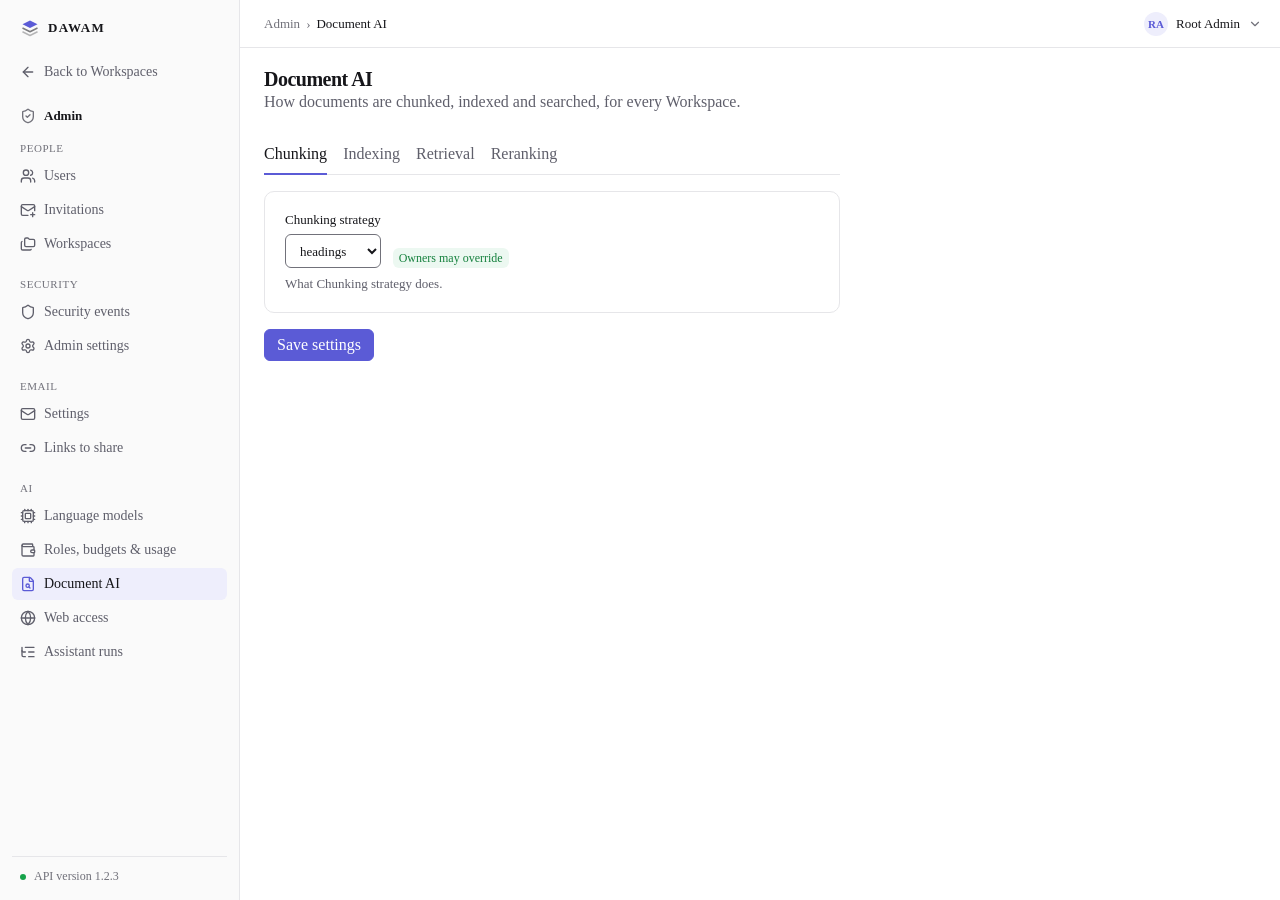
the Document AI settings page › queues a re-index of every Workspace when the admin accepts
This screenshot has width=1280, height=900.
Select "recursive" in the dropdown labelled "Chunking strategy" at (333, 251), box [285,234,381,268]
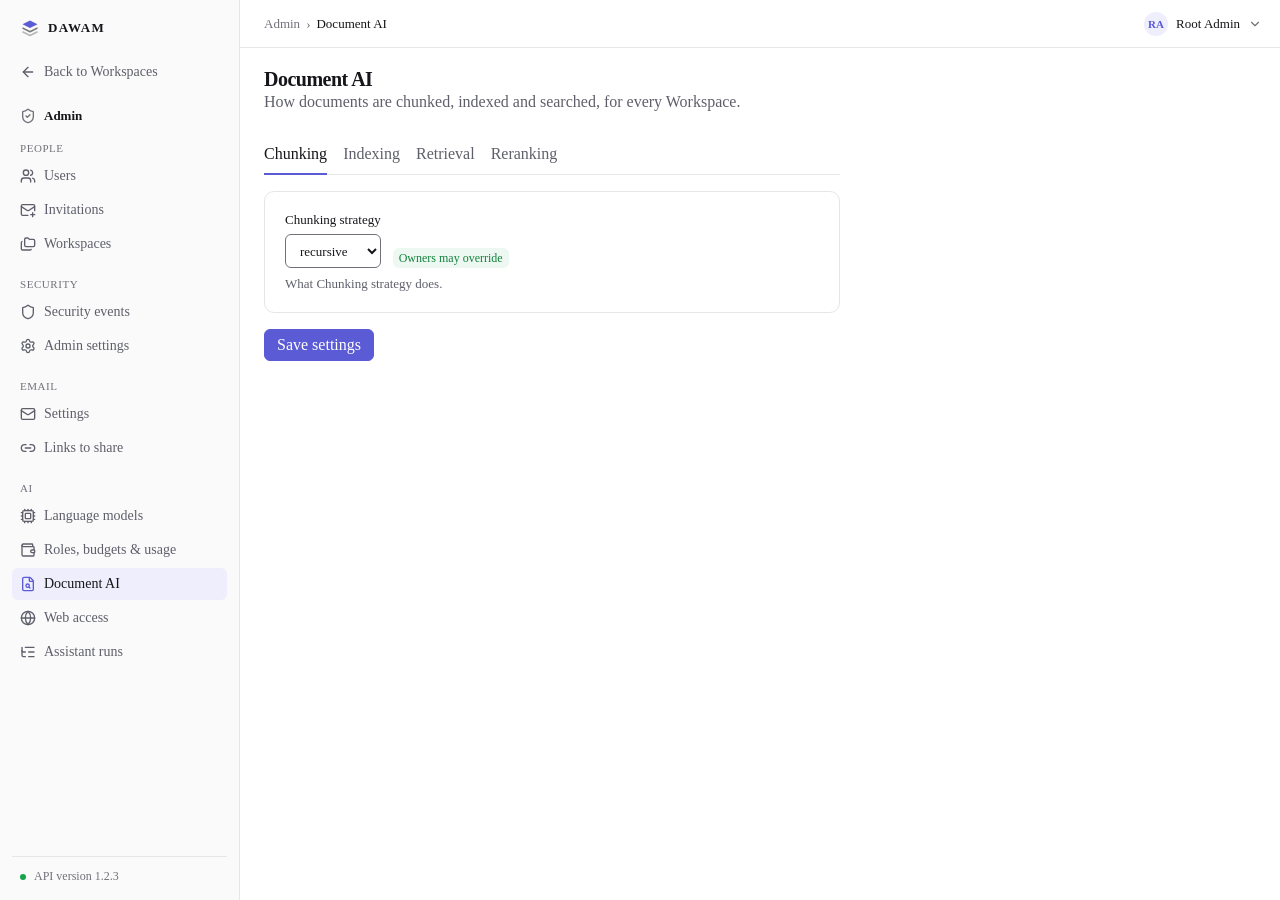
Click the button "Save settings".
click(319, 345)  # box [264,329,374,361]
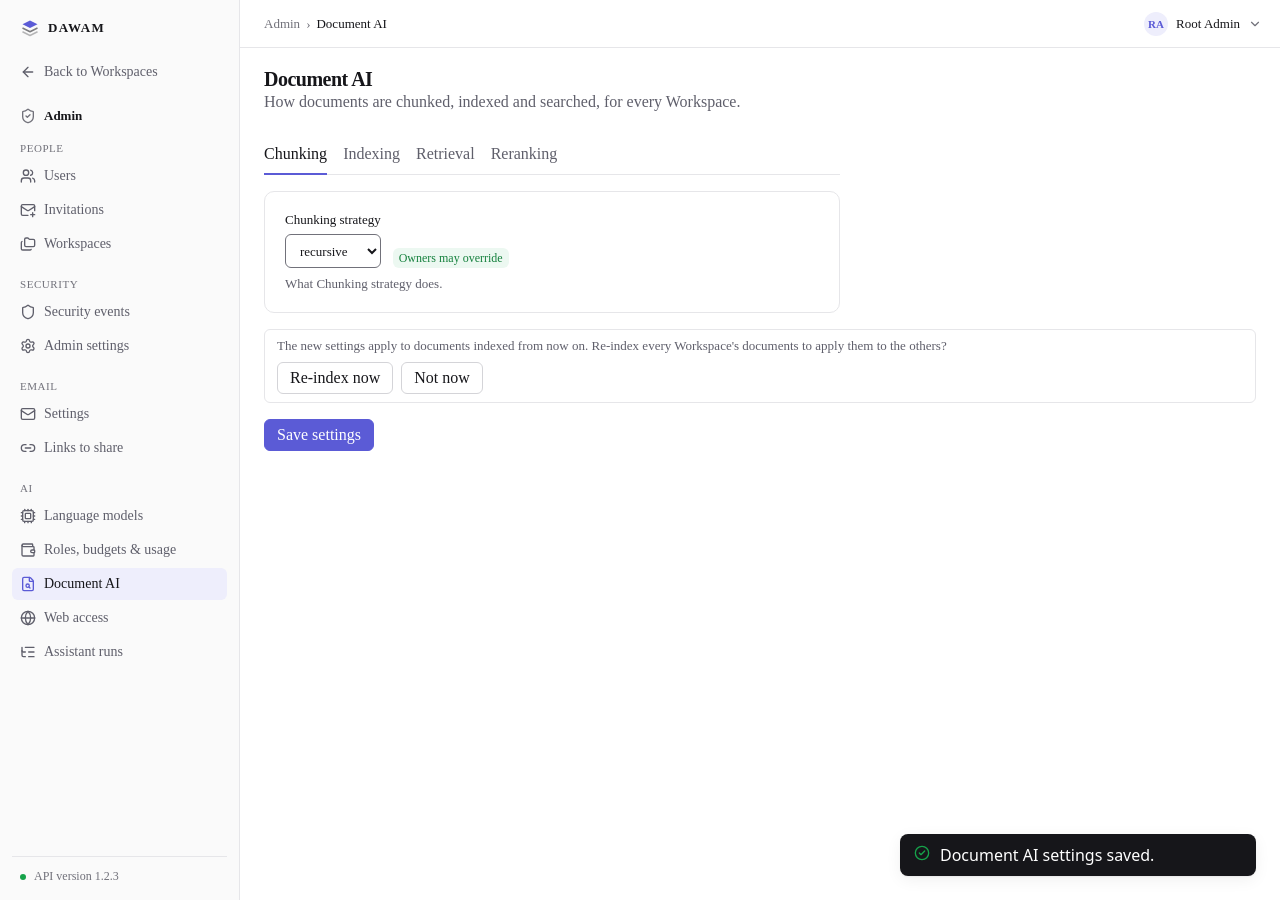
Expected: the text "Re-index every Workspace's documents" is shown, [277,338,947,353]
Click the button "Re-index now".
click(335, 378)  # box [277,362,393,394]
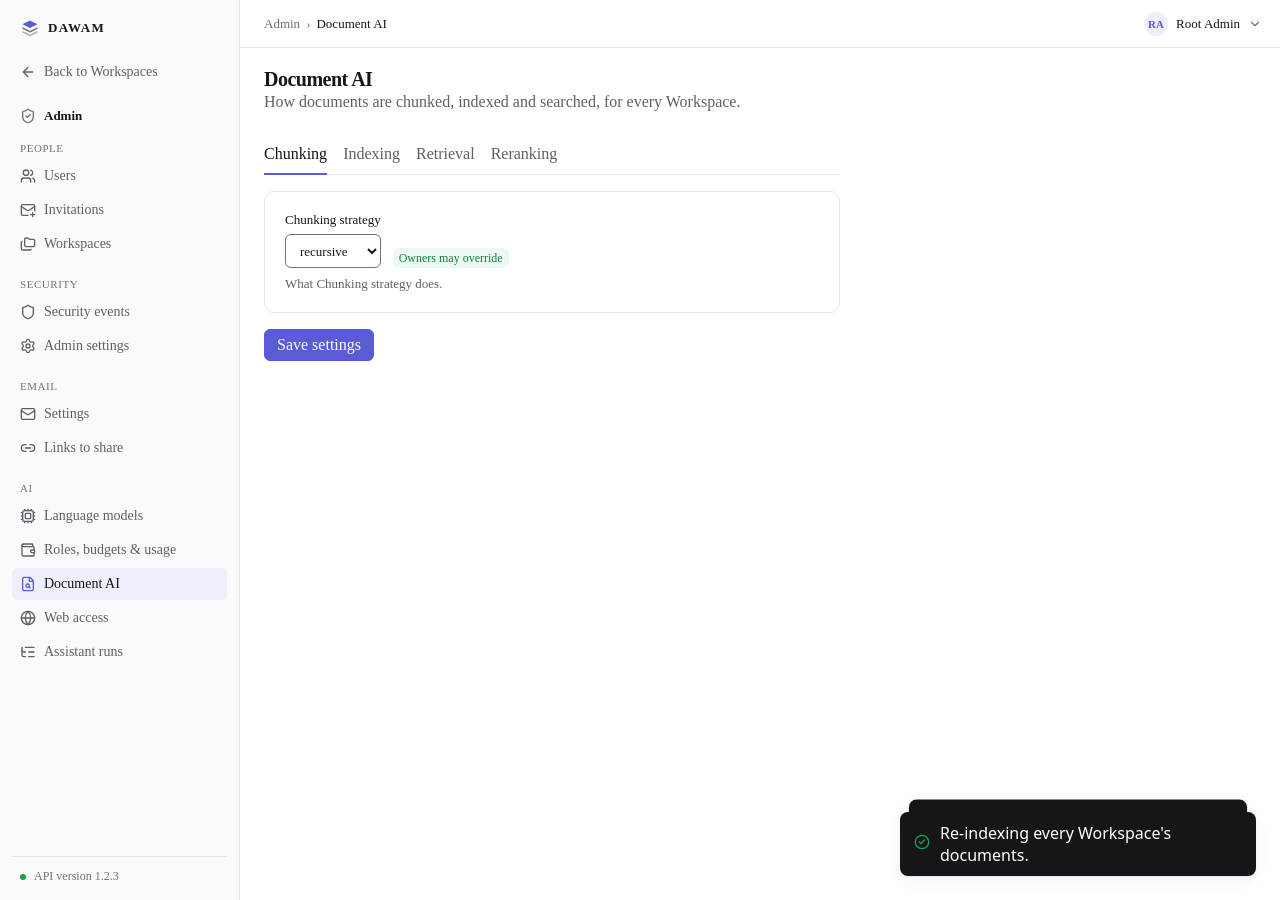
Expected: the text "Re-indexing every Workspace's documents." is shown, [940,822,1171,866]
